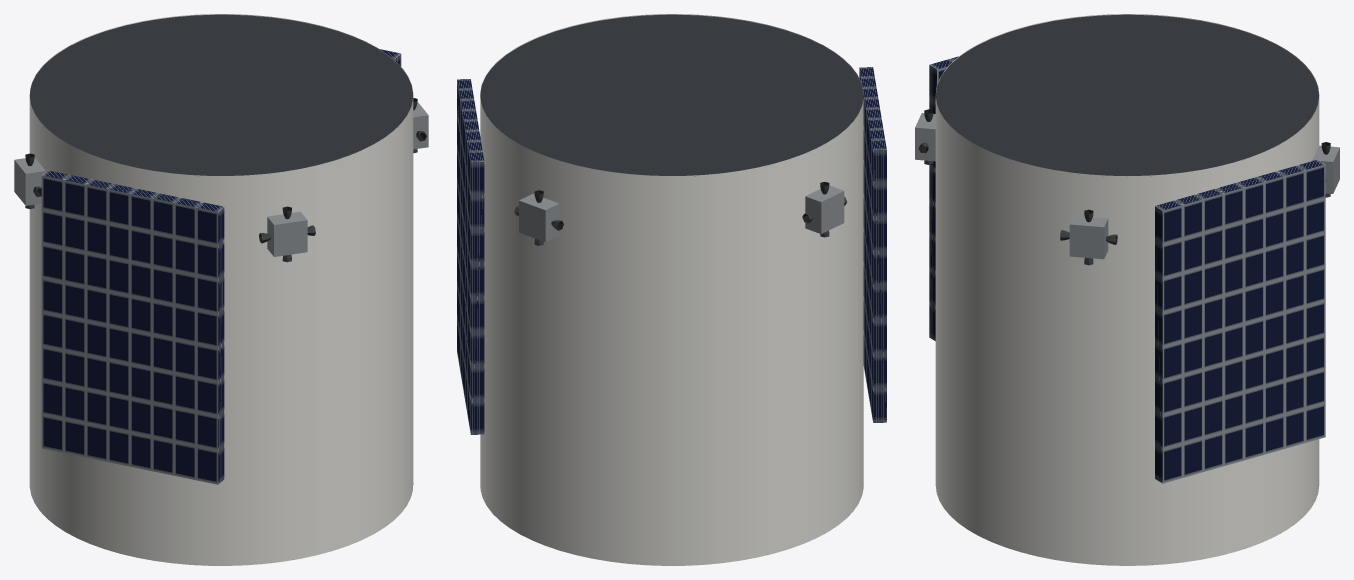
The model's file is shenzhou_service_module.glb.
3 views of the same model, side by side, from view 1: azimuth 30°, elevation 25°; view 2: azimuth 150°, elevation 25°; view 3: azimuth 270°, elevation 25° (orthographic).
Parts seen in each view (by area): view 1: body; view 2: body; view 3: body.
Part boxes in pixels (x1=…): body: x1=14, y1=14, x2=428, y2=565; body: x1=457, y1=14, x2=886, y2=565; body: x1=915, y1=14, x2=1339, y2=565.
Bounding box in the file's own units: 2.32 × 2.2 × 2.16.
Materials: 10 (1 with a texture image).
